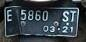clone-license-plate: (2, 4, 78, 37)
